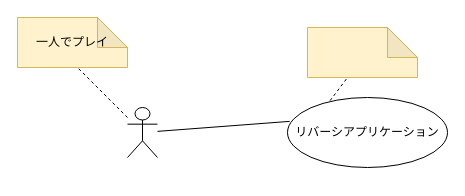
This 465x196 diagram has some shape labels left out. The centre of each missing label's shape, as x and y in pixels:
"payer" goes at (142,132).
"webアプリ" goes at (362,52).
